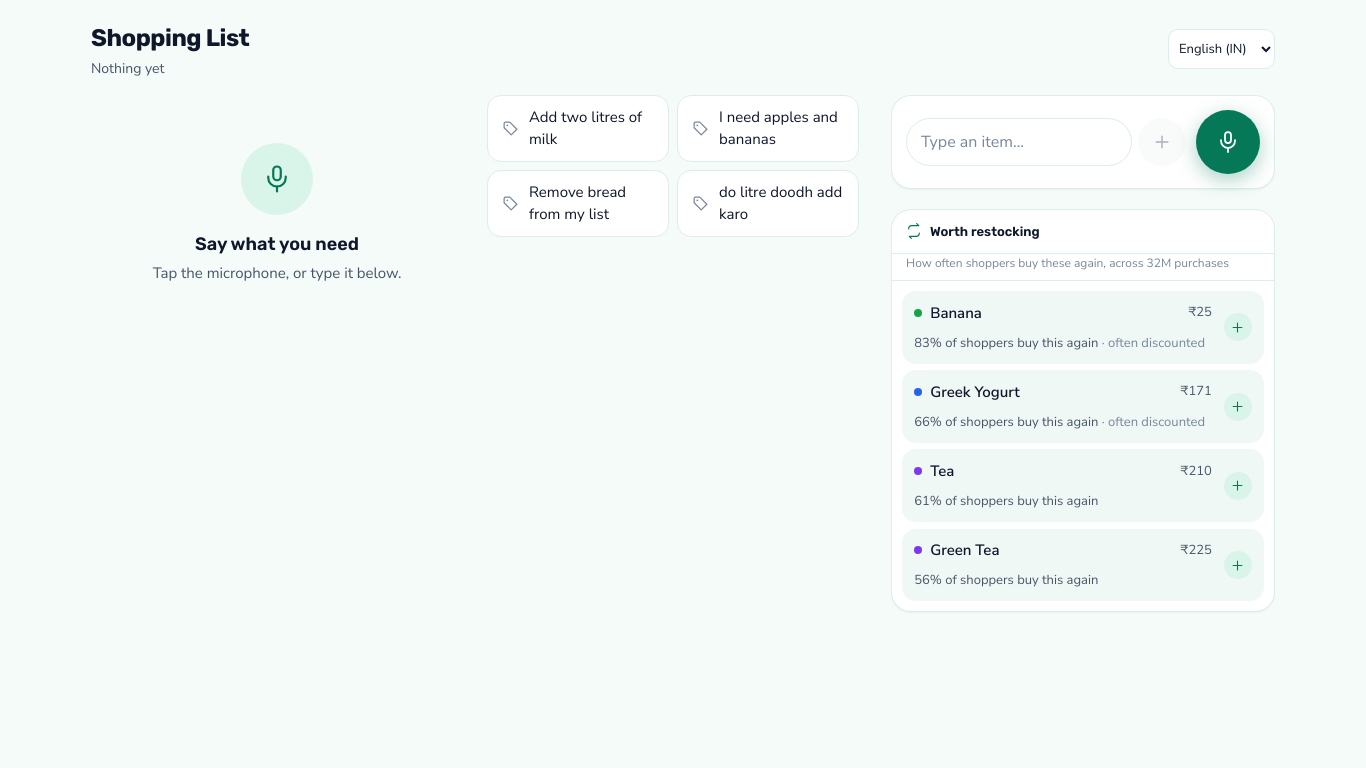
it: voice input › accepts Hinglish
Click the button named "Start listening" at coordinates (1228, 142), box [1196,110,1260,174]
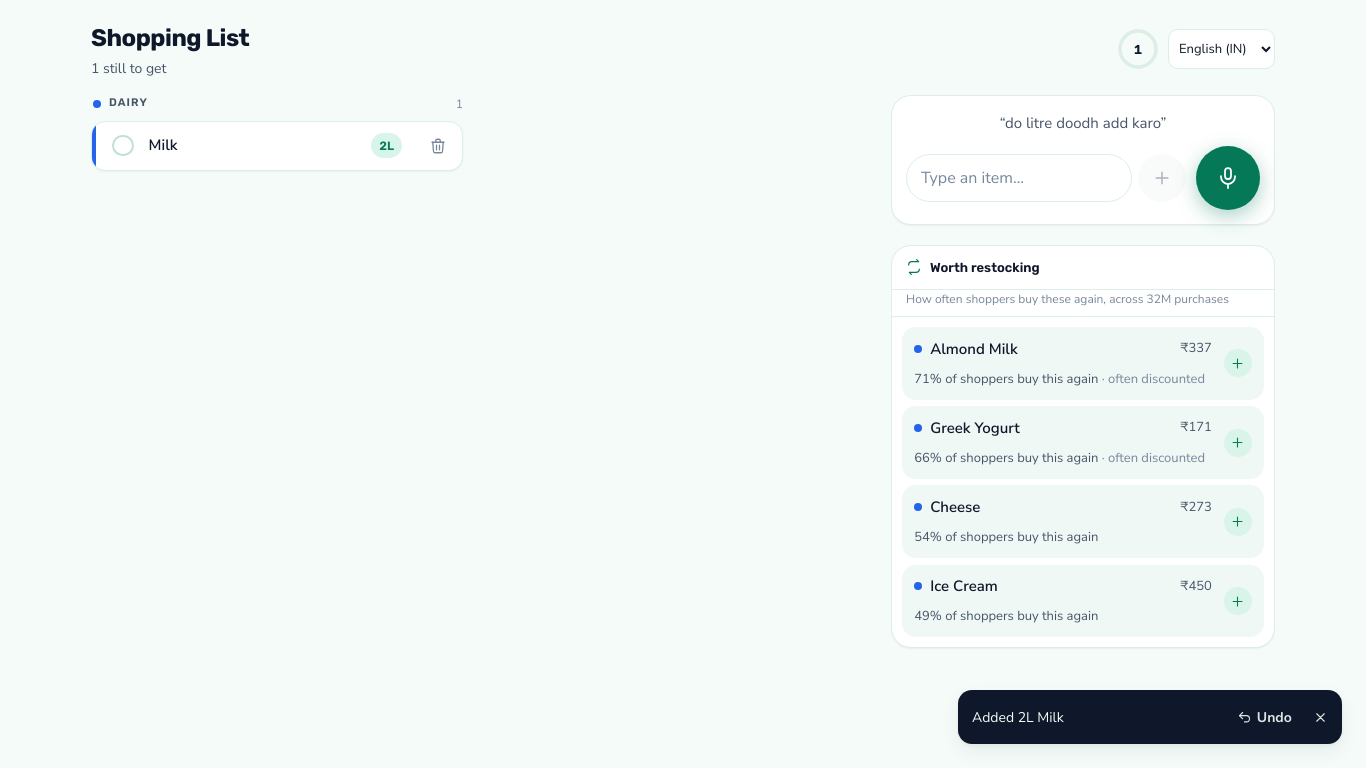
Expected: the text "Milk" is shown, [149,135,178,155]
